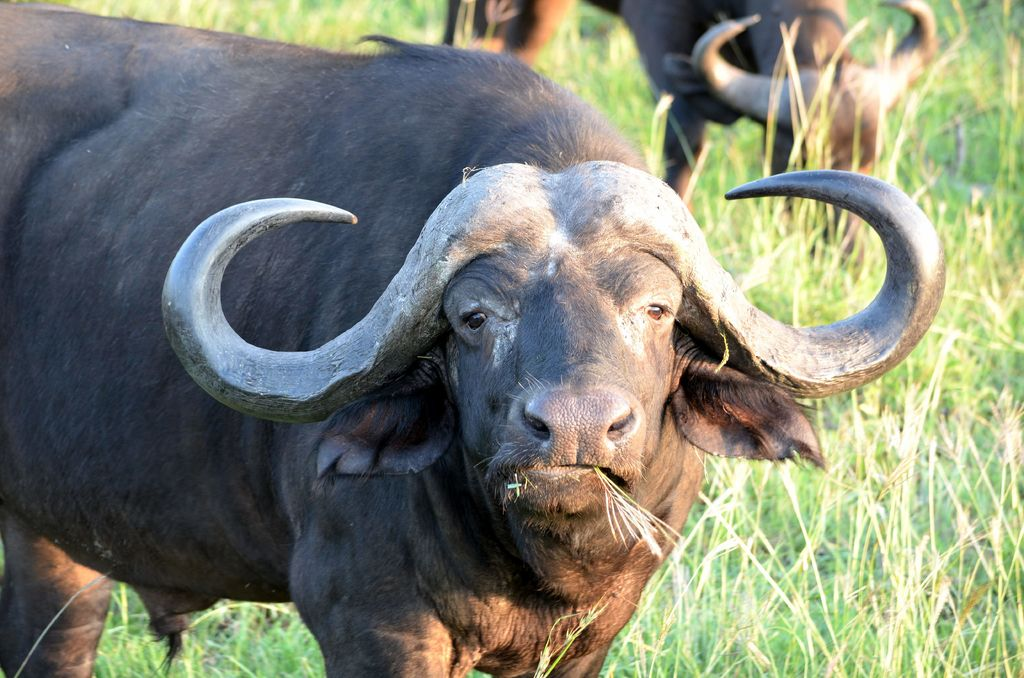person: (454, 0, 578, 66)
